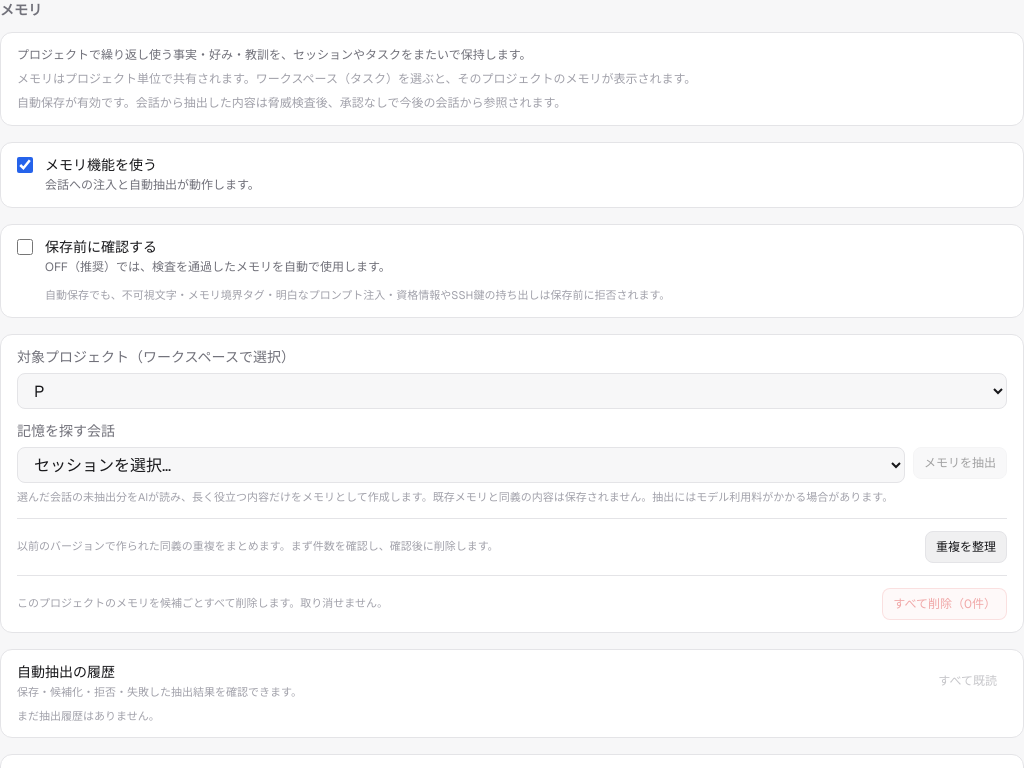
Scenario: MemorySettings › deletes duplicates after the confirmation is accepted
Click the button "重複を整理" at [966, 546], box [925,530,1007,562]
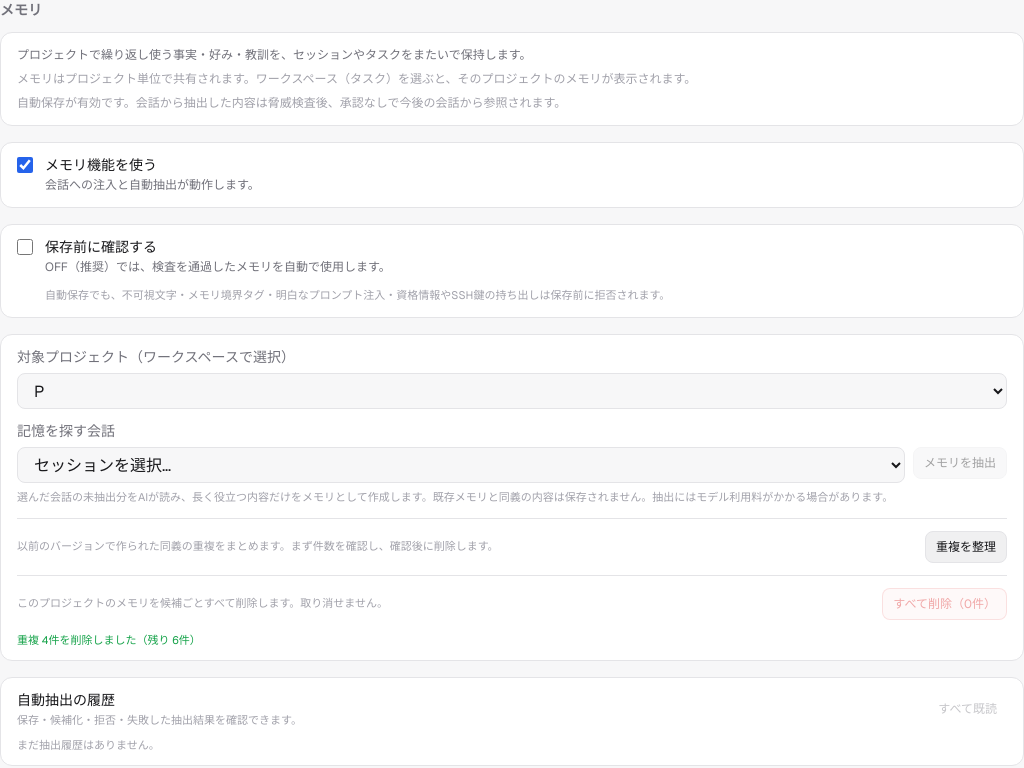
Now the text "重複 4件を削除しました（残り 6件）" is shown, box [17,632,201,646]
